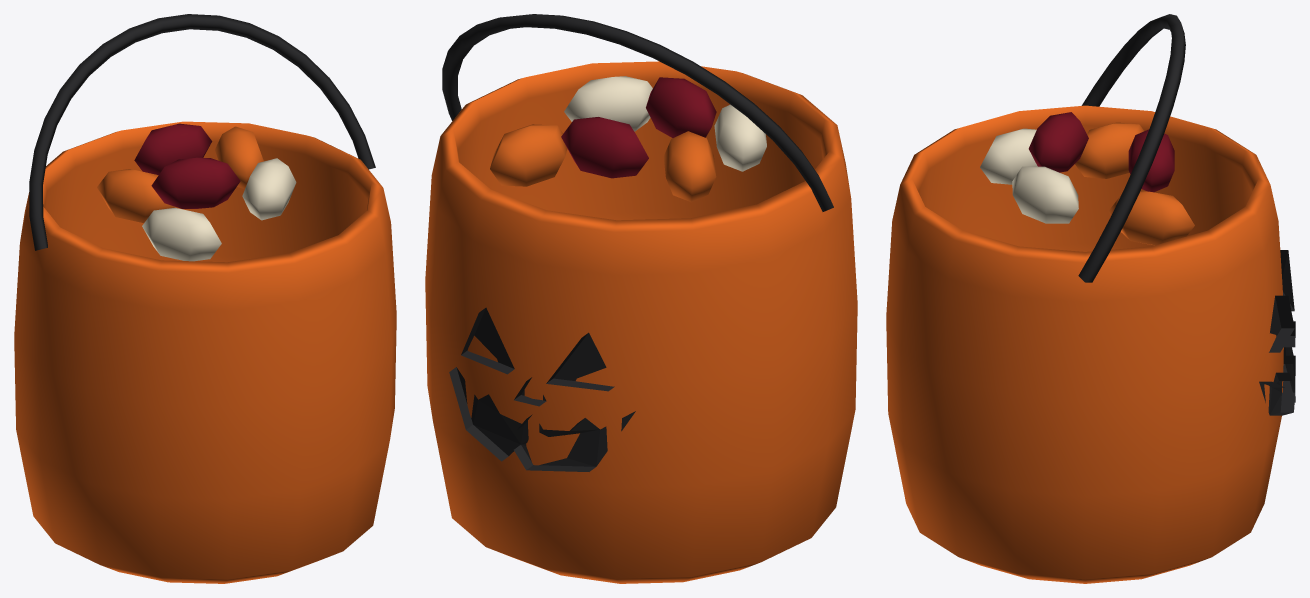
The model's file is CANDY_BUCKET.glb.
3 views of the same model, side by side, from view 1: azimuth 30°, elevation 25°; view 2: azimuth 150°, elevation 25°; view 3: azimuth 270°, elevation 25° (orthographic). The views are drawn at different scales.
Parts seen in each view (by area): view 1: plastic_0, tread_1, velvet_4, bone_3, pumpkin_2; view 2: plastic_0, tread_1, velvet_4, pumpkin_2, bone_3; view 3: plastic_0, tread_1, pumpkin_2, bone_3, velvet_4.
Part boxes in pixels (bbox=[...]): plastic_0: bbox=[14, 121, 396, 583]; tread_1: bbox=[29, 14, 375, 250]; velvet_4: bbox=[134, 123, 240, 208]; bone_3: bbox=[142, 158, 296, 261]; pumpkin_2: bbox=[97, 126, 263, 222]; plastic_0: bbox=[425, 61, 857, 583]; tread_1: bbox=[442, 14, 833, 471]; velvet_4: bbox=[561, 77, 716, 178]; pumpkin_2: bbox=[490, 124, 716, 202]; bone_3: bbox=[564, 76, 766, 171]; plastic_0: bbox=[886, 105, 1283, 583]; tread_1: bbox=[1078, 14, 1295, 415]; pumpkin_2: bbox=[1075, 122, 1194, 245]; bone_3: bbox=[980, 128, 1078, 223]; velvet_4: bbox=[1028, 112, 1174, 192].
Size of the model in its own units: 0.306 by 0.4043 by 0.3085.
